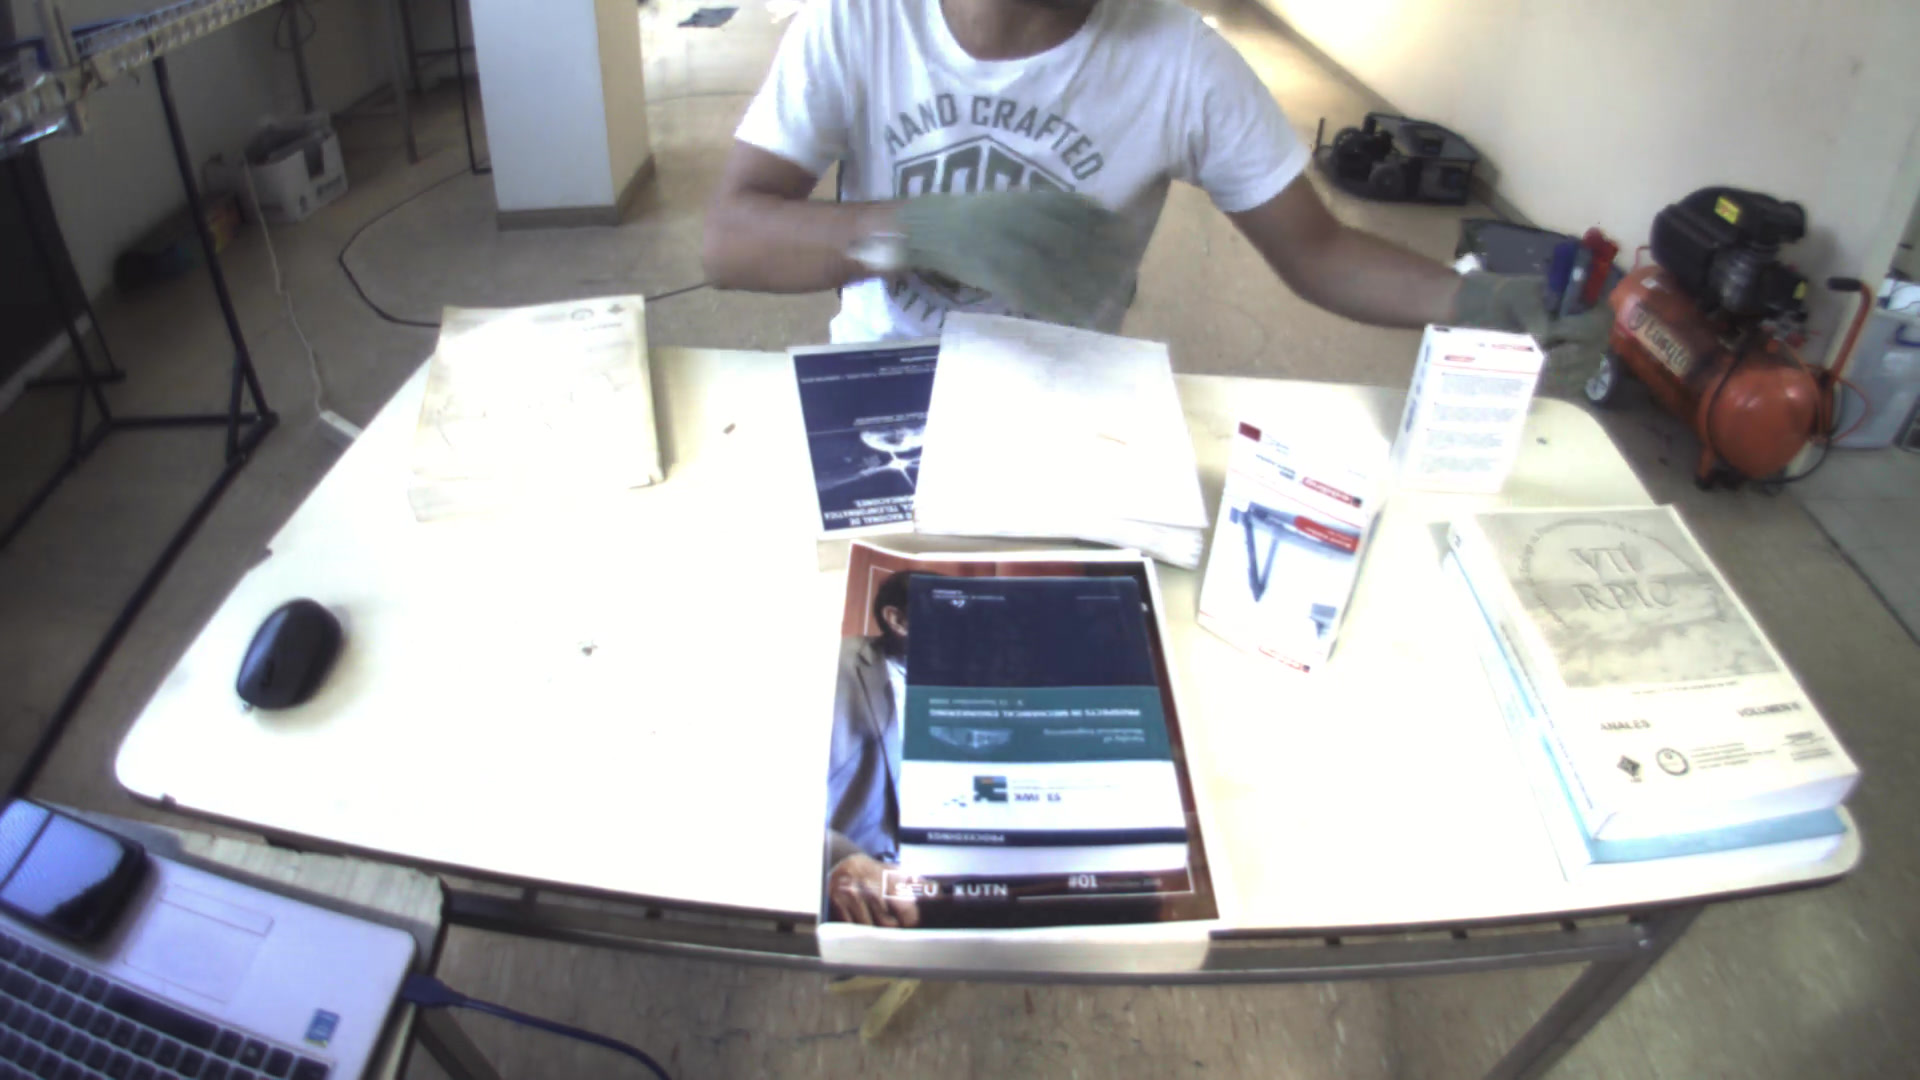hand: (878, 177, 1155, 319), (1455, 258, 1614, 402)
